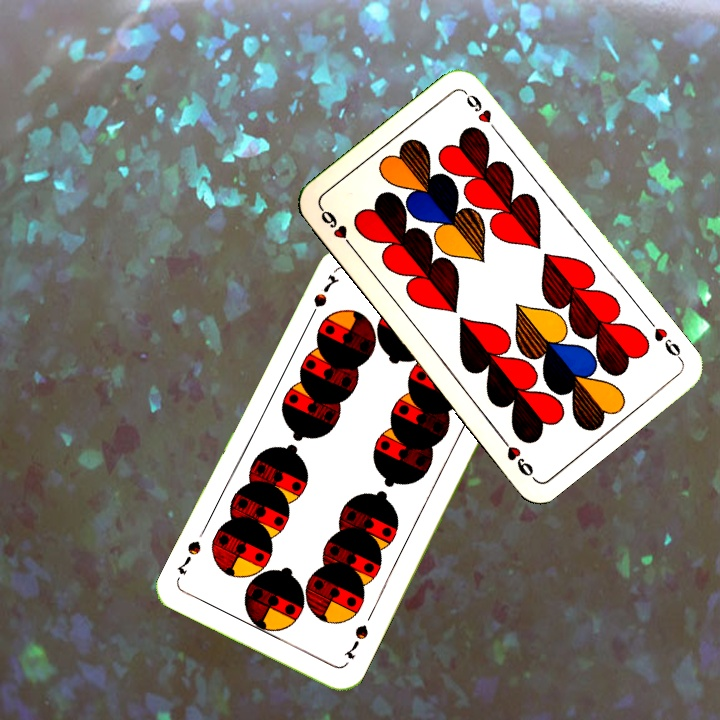H9: (316, 204, 358, 254), (643, 314, 685, 364)
S7: (304, 270, 341, 325), (341, 620, 371, 662)
